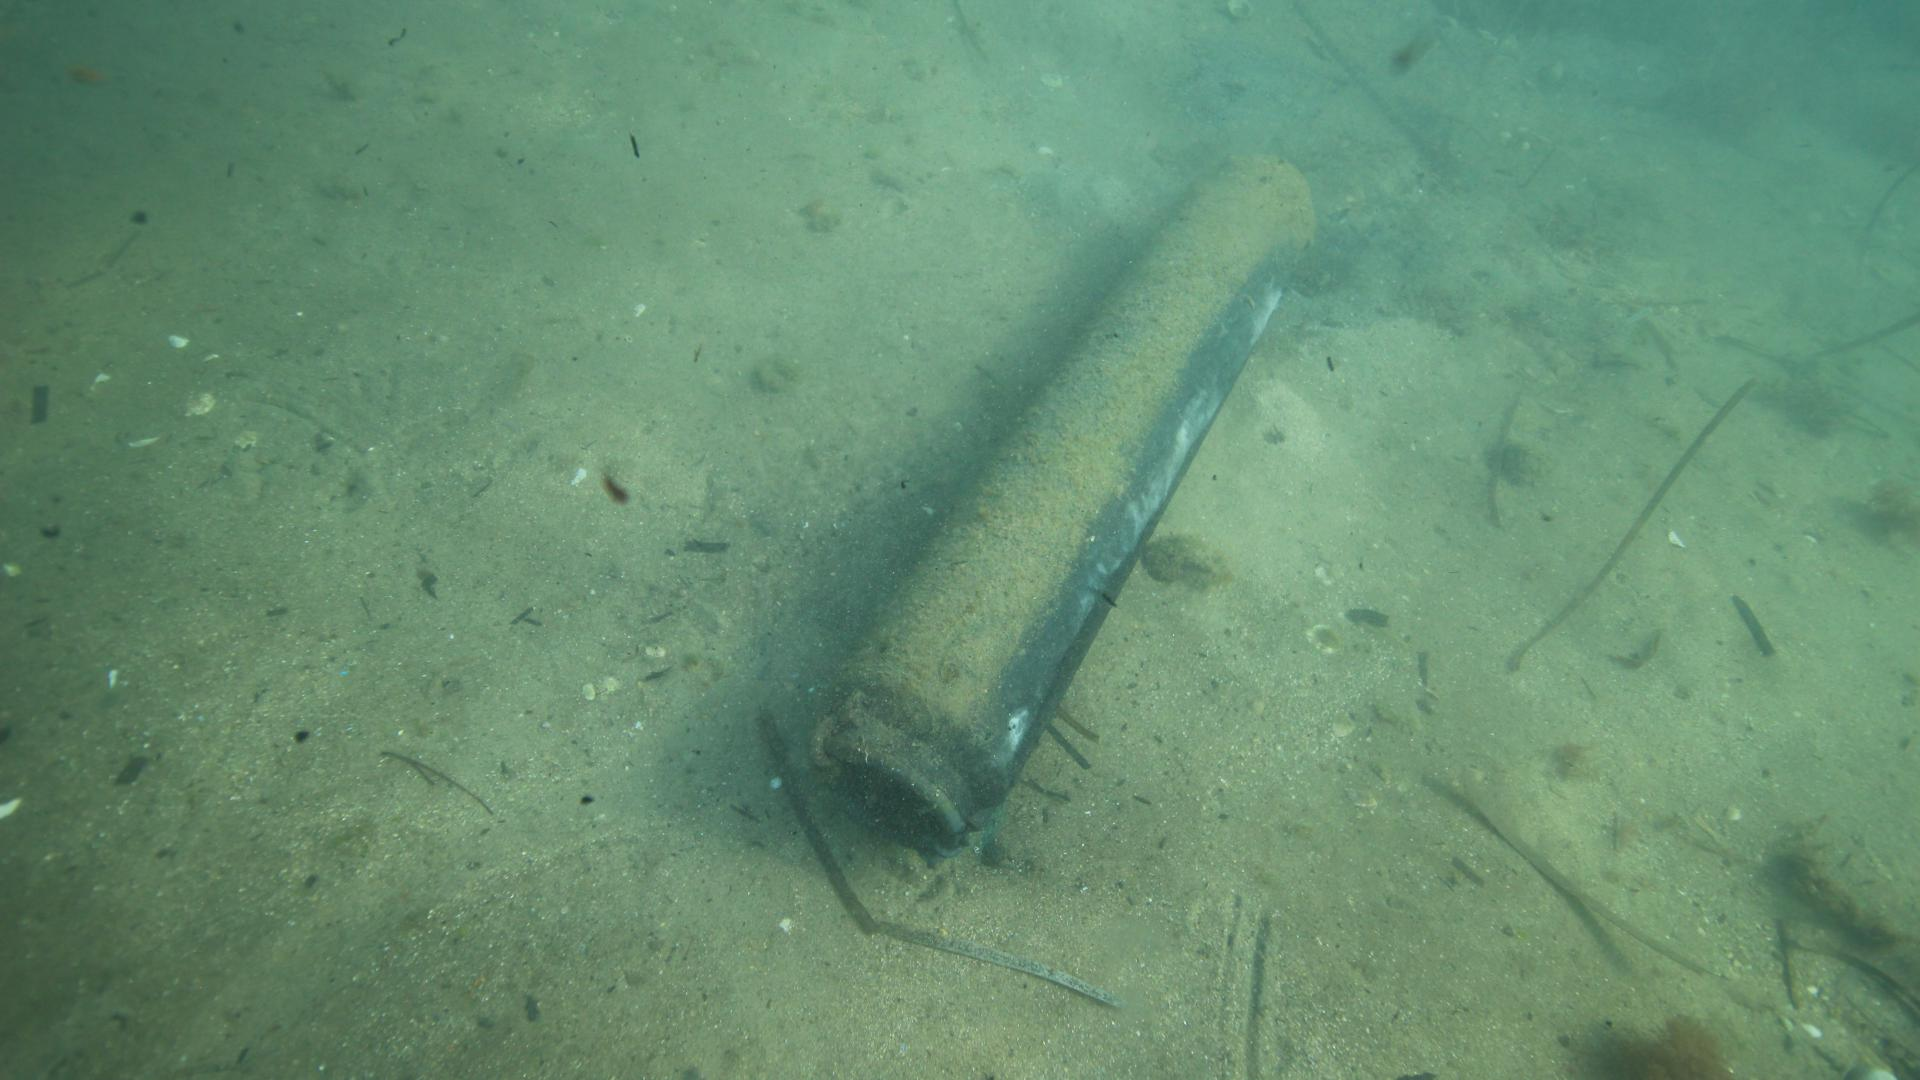eel fish trap: (806, 145, 1317, 851)
